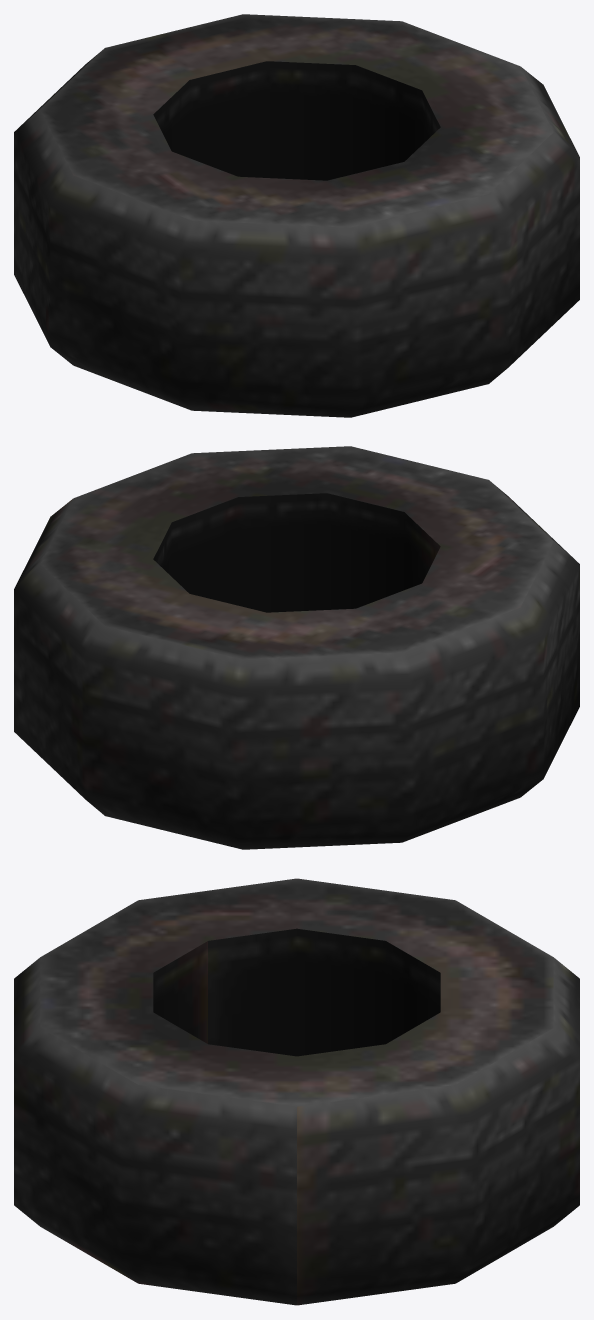
Rendered from tire.fbx.
The picture shows the model from 3 angles, top to bottom: view 1: azimuth 30°, elevation 25°; view 2: azimuth 150°, elevation 25°; view 3: azimuth 270°, elevation 25°; orthographic projection. The views are drawn at different scales.
Visible parts, largest first — view 1: tire; view 2: tire; view 3: tire.
Part boxes in pixels (bbox=[...]): tire: bbox=[14, 14, 579, 417]; tire: bbox=[14, 446, 579, 849]; tire: bbox=[14, 878, 579, 1305].
Size of the model in its own units: 351 by 130 by 334.
